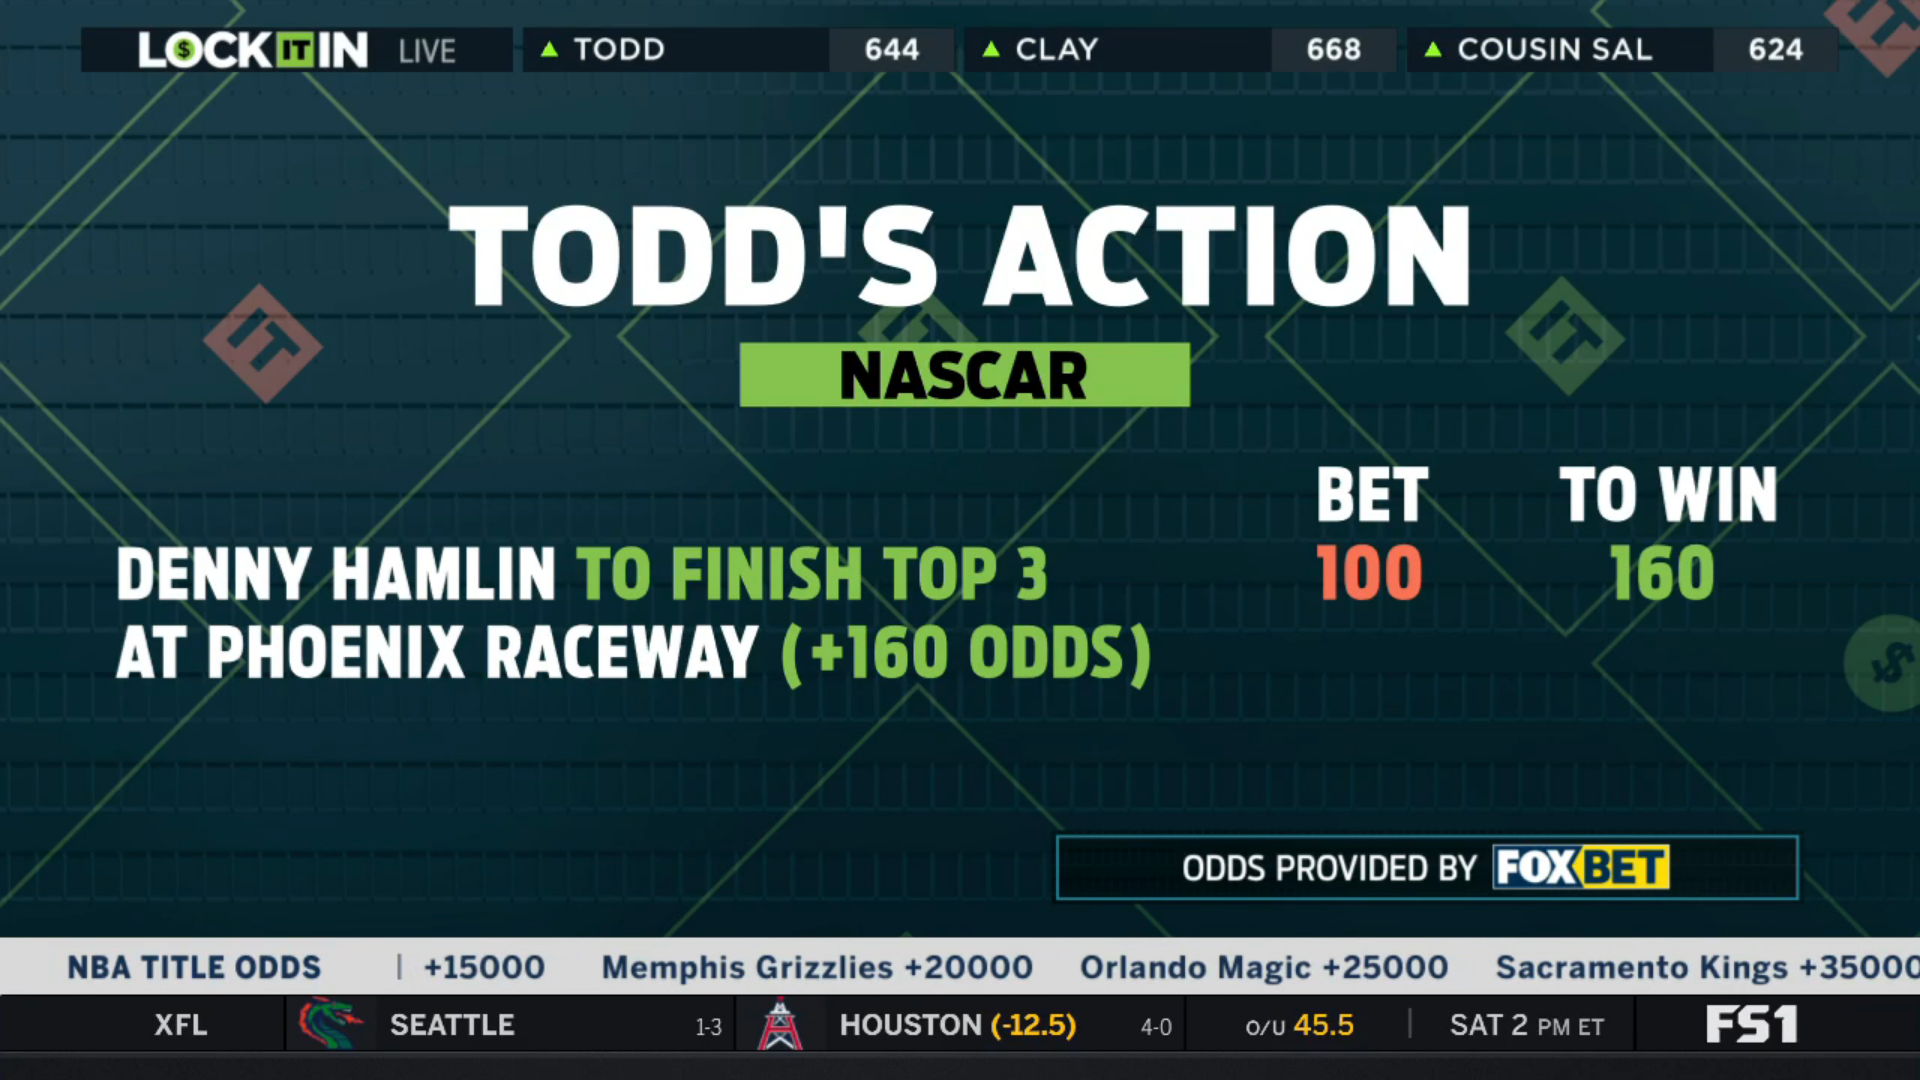Bet: (105, 533, 1164, 703)
Bet Amount: (1305, 448, 1441, 616)
Subtitle: (728, 328, 1200, 419)
Title: (436, 189, 1489, 319)
To Win: (1545, 452, 1793, 613)
Top Bar: (73, 13, 1845, 80)
